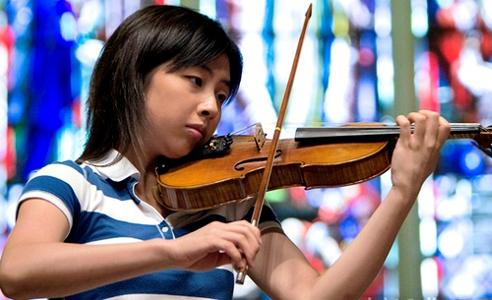person: (2, 6, 450, 300)
